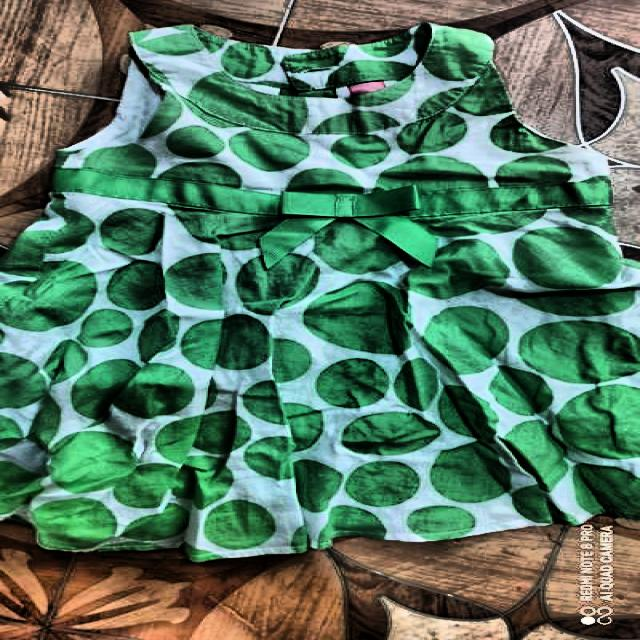clothes: (0, 23, 640, 564)
